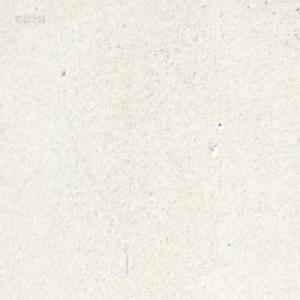Wrench: (122, 0, 128, 4)
